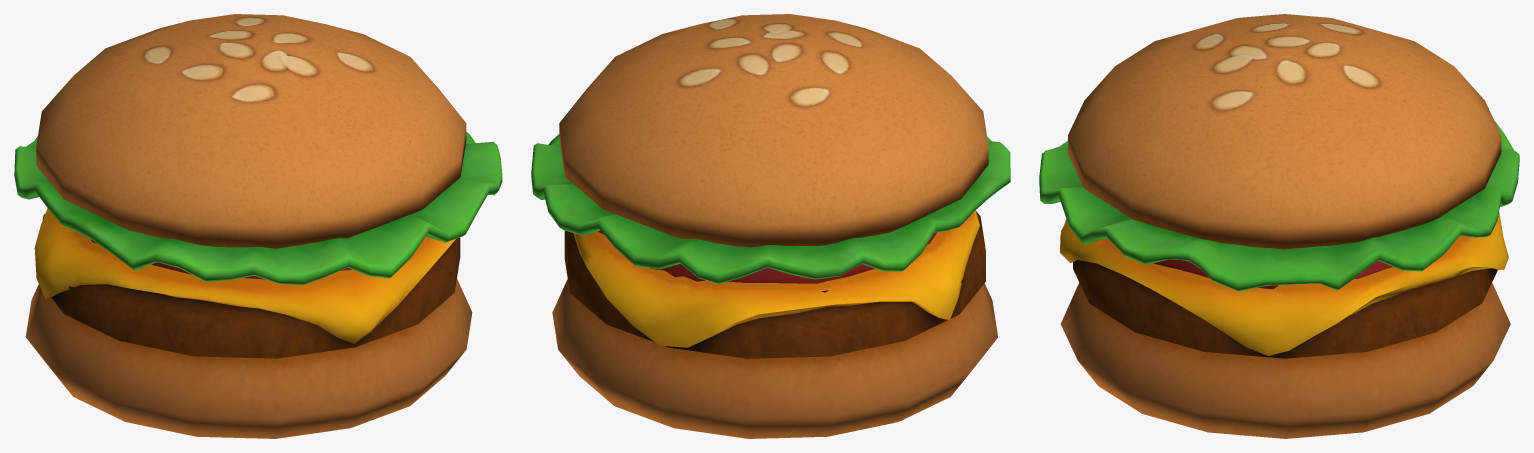
The model's file is 0-hamburger.fbx.
The picture shows the model from 3 angles, left to right: view 1: azimuth 30°, elevation 25°; view 2: azimuth 150°, elevation 25°; view 3: azimuth 270°, elevation 25°; orthographic projection.
Parts seen in each view (by area): view 1: 0-hamburger; view 2: 0-hamburger; view 3: 0-hamburger.
Part boxes in pixels (x1=…): 0-hamburger: x1=14, y1=14, x2=502, y2=438; 0-hamburger: x1=531, y1=14, x2=1010, y2=438; 0-hamburger: x1=1039, y1=14, x2=1519, y2=438.
Bounding box in the file's own units: 97.21 × 70.32 × 99.88.
